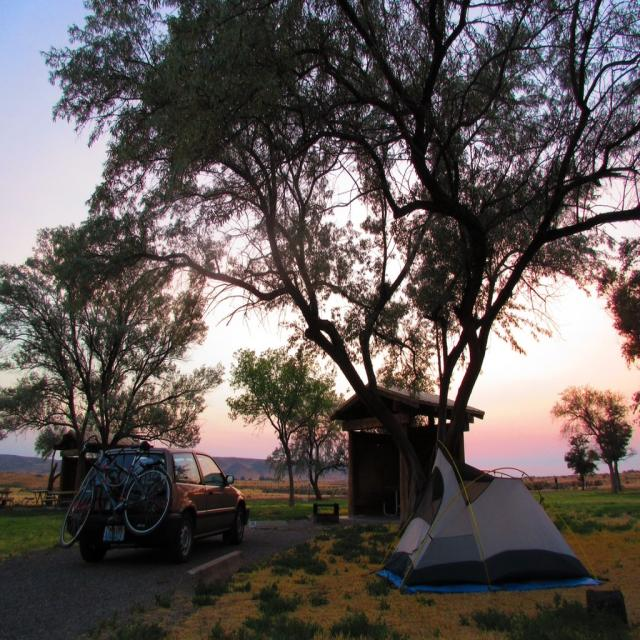car: (61, 443, 251, 559)
